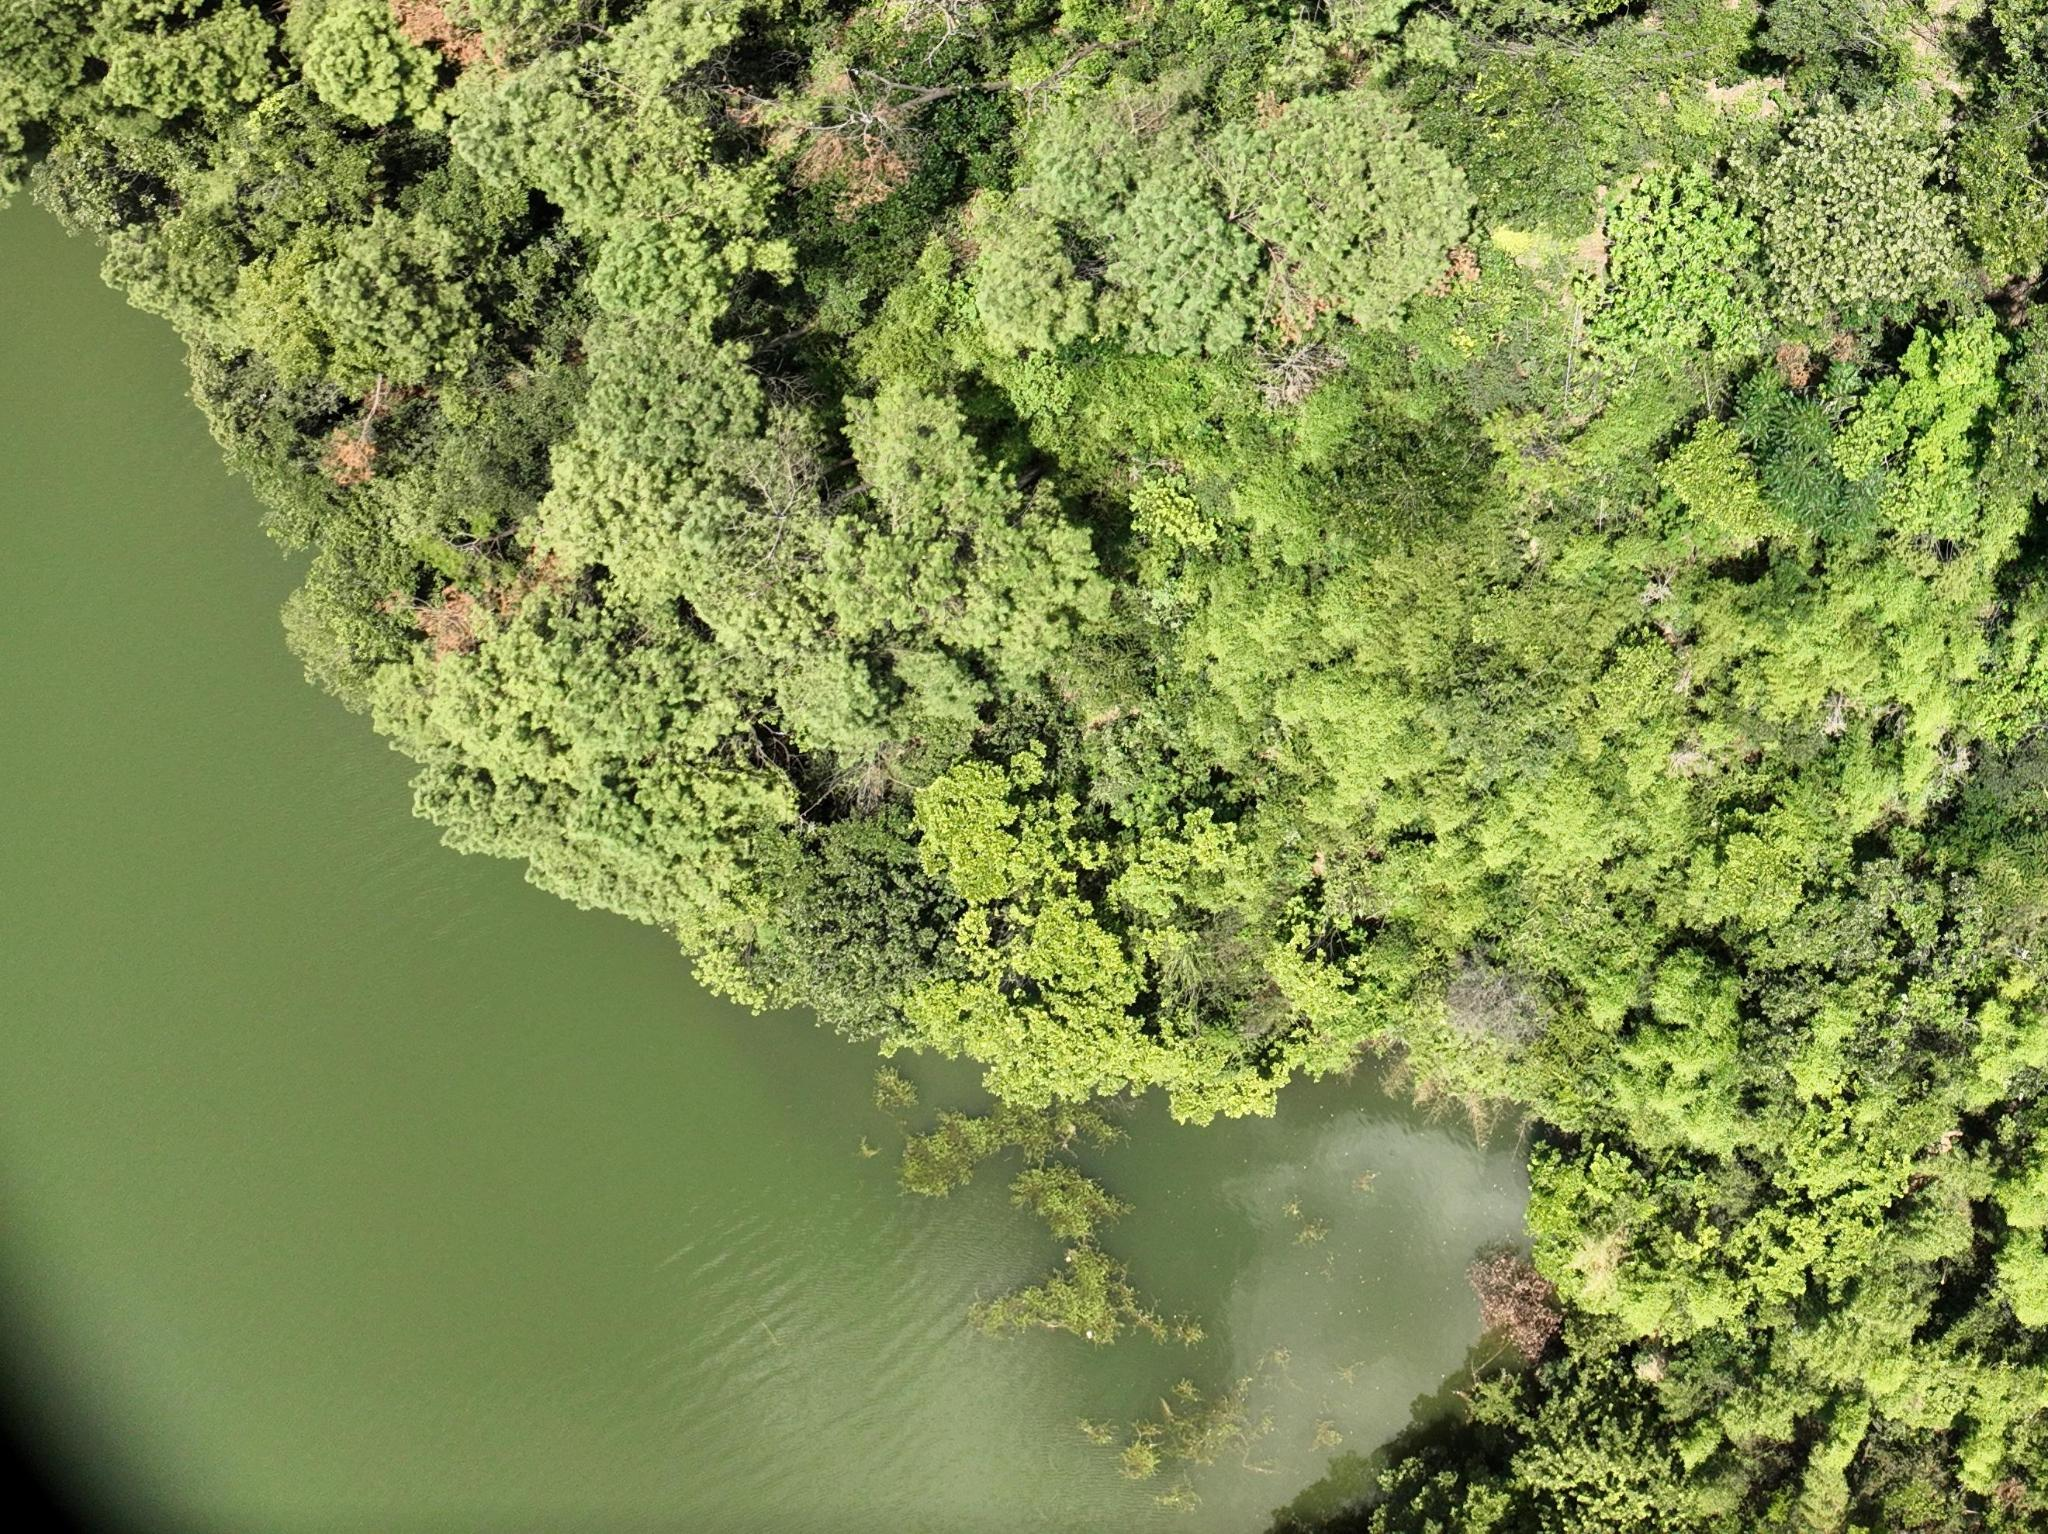dead: (1442, 964, 1542, 1054), (1257, 340, 1341, 401)
heavy: (794, 74, 922, 221), (387, 551, 562, 651), (1468, 1252, 1557, 1362), (317, 379, 400, 482), (395, 2, 490, 74)
